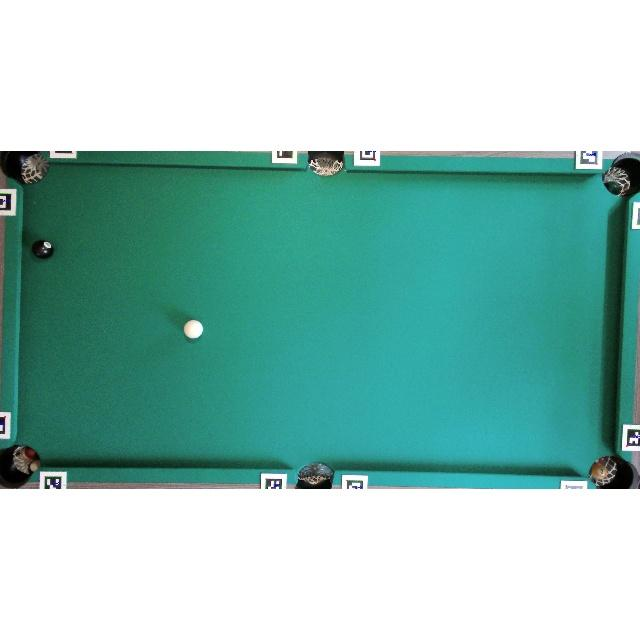cue ball: (183, 319, 204, 340)
other: (30, 239, 54, 259)
